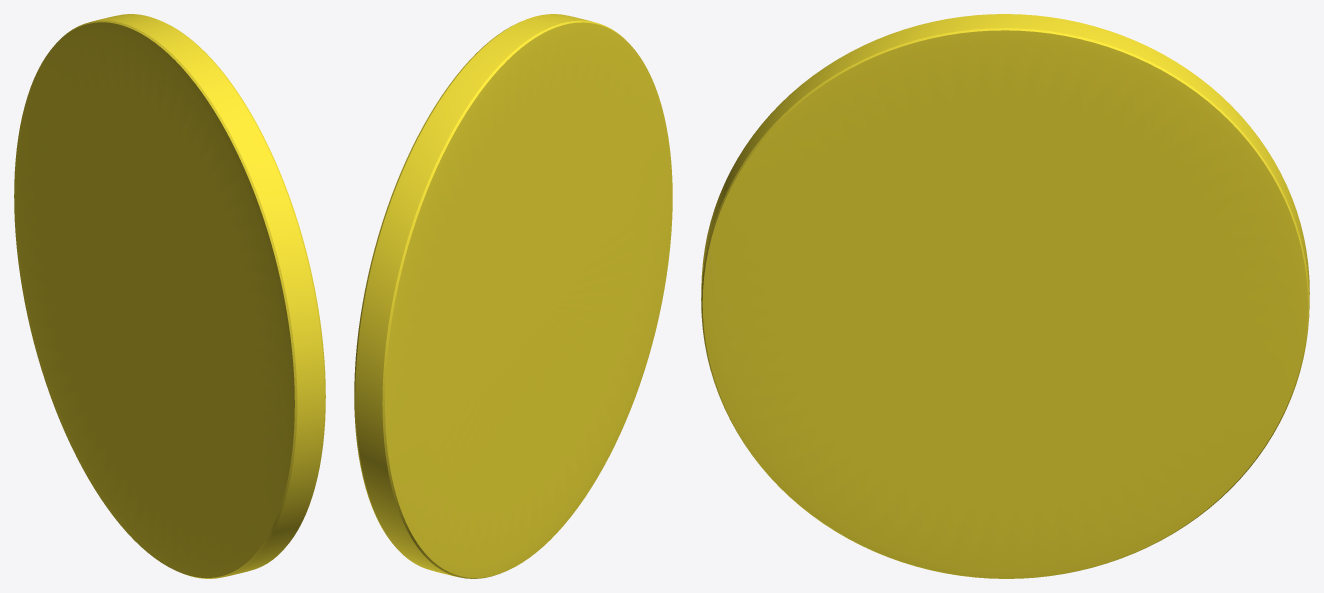
The model's file is kolikko2.fbx.
3 renders of one model, left to right at view 1: azimuth 30°, elevation 25°; view 2: azimuth 150°, elevation 25°; view 3: azimuth 270°, elevation 25°, orthographic. The views are drawn at different scales.
Parts seen in each view (by area): view 1: Cylinder; view 2: Cylinder; view 3: Cylinder.
Part boxes in pixels (x1,y1,x2,y2): Cylinder: (14,14,325,578); Cylinder: (354,14,672,578); Cylinder: (701,14,1309,578).
Bounding box in the file's own units: 14.27 × 200 × 200.
